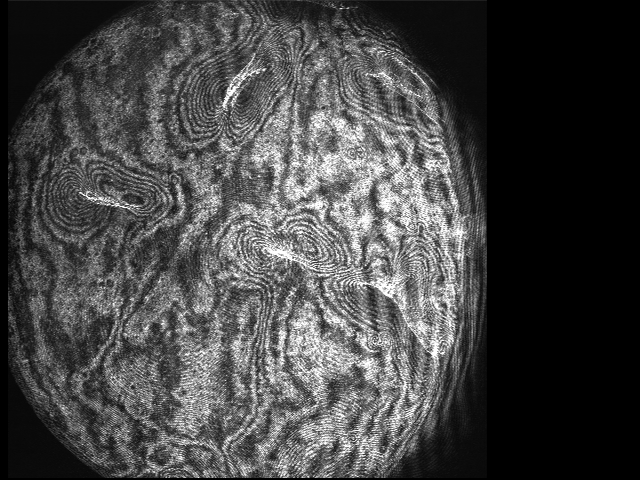plume: (41, 155, 175, 234), (186, 50, 290, 139)
